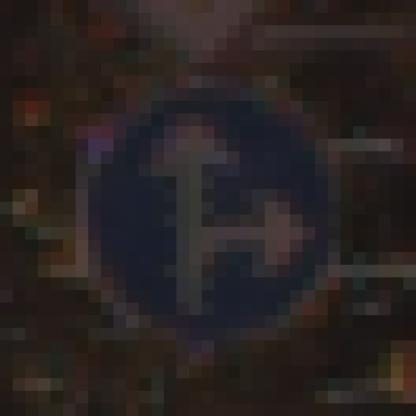Straight or Right: (64, 64, 341, 354)
